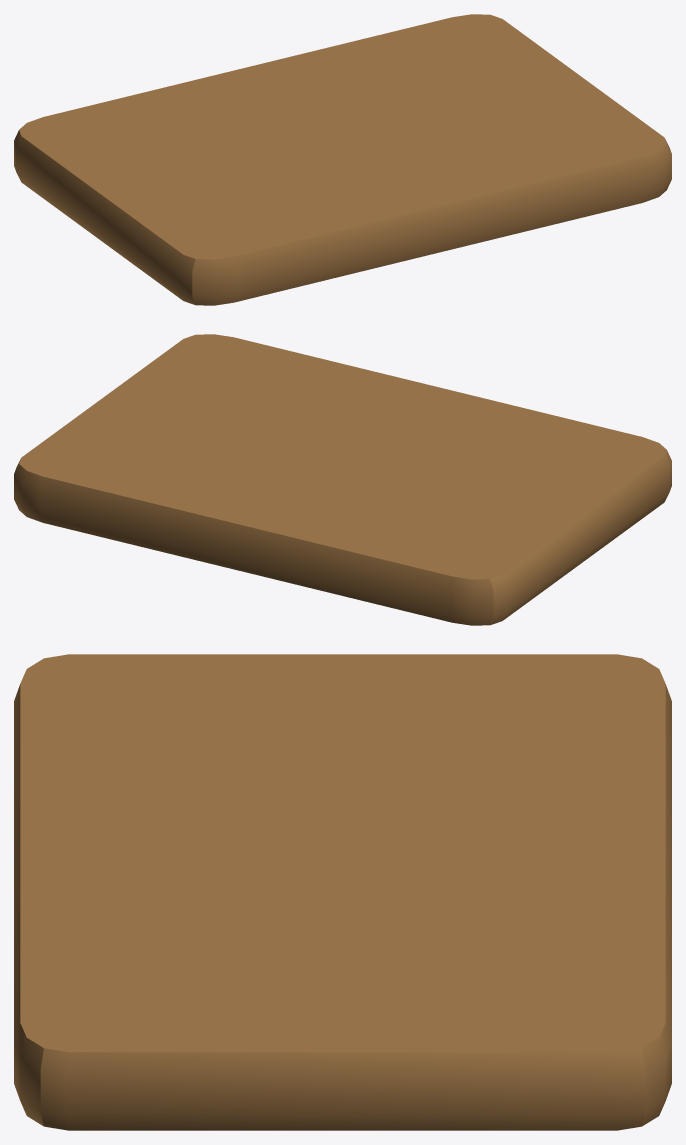
The model's file is cutting board small.fbx.
3 views of the same model, one above another, from view 1: azimuth 30°, elevation 25°; view 2: azimuth 150°, elevation 25°; view 3: azimuth 270°, elevation 25° (orthographic). The views are drawn at different scales.
Visible parts, largest first — view 1: small cutting board; view 2: small cutting board; view 3: small cutting board.
Part boxes in pixels (bbox=[...]): small cutting board: bbox=[14, 14, 671, 305]; small cutting board: bbox=[14, 334, 671, 625]; small cutting board: bbox=[14, 654, 671, 1130].
Size of the model in its own units: 18.41 by 1.66 by 12.62.
